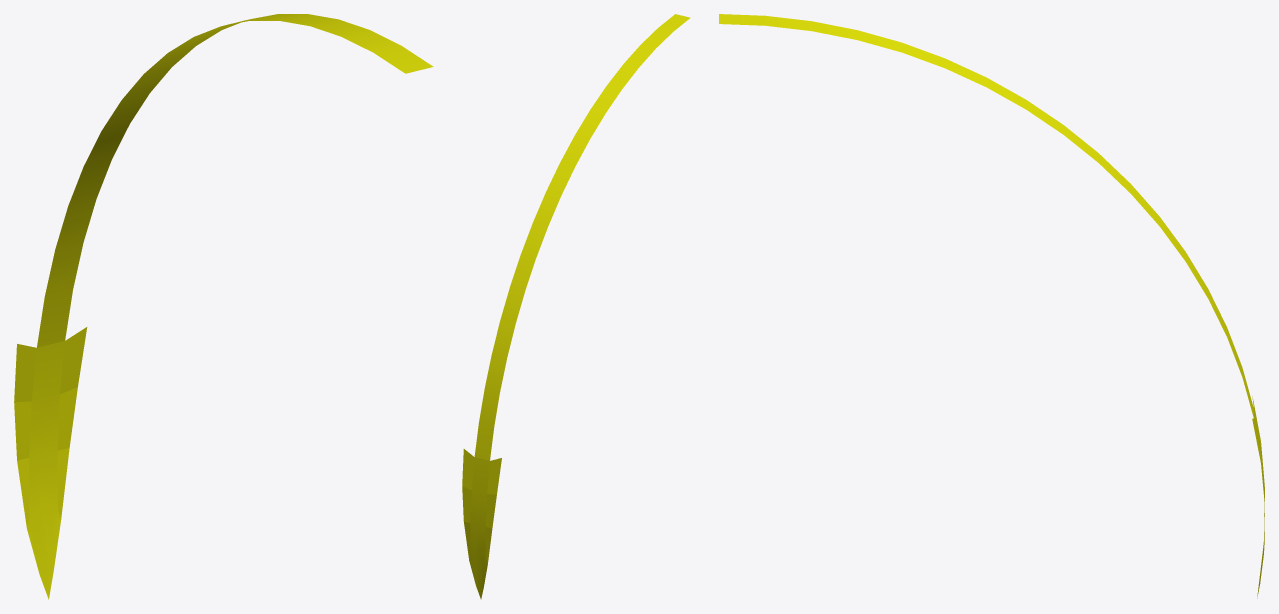
The model's file is arrow.fbx.
3 renders of one model, left to right at view 1: azimuth 30°, elevation 25°; view 2: azimuth 150°, elevation 25°; view 3: azimuth 270°, elevation 25°, orthographic. The views are drawn at different scales.
Parts seen in each view (by area): view 1: arrowTip, arrowBody; view 2: arrowBody, arrowTip; view 3: arrowBody.
Boxes of the visible parts, x1,y1,x2,y2 form: arrowTip: (14, 327, 87, 599); arrowBody: (37, 14, 433, 347); arrowBody: (474, 14, 690, 460); arrowTip: (462, 449, 501, 599); arrowBody: (719, 14, 1253, 417).
Bounding box in the file's own units: 0.9467 × 10.31 × 8.78.
